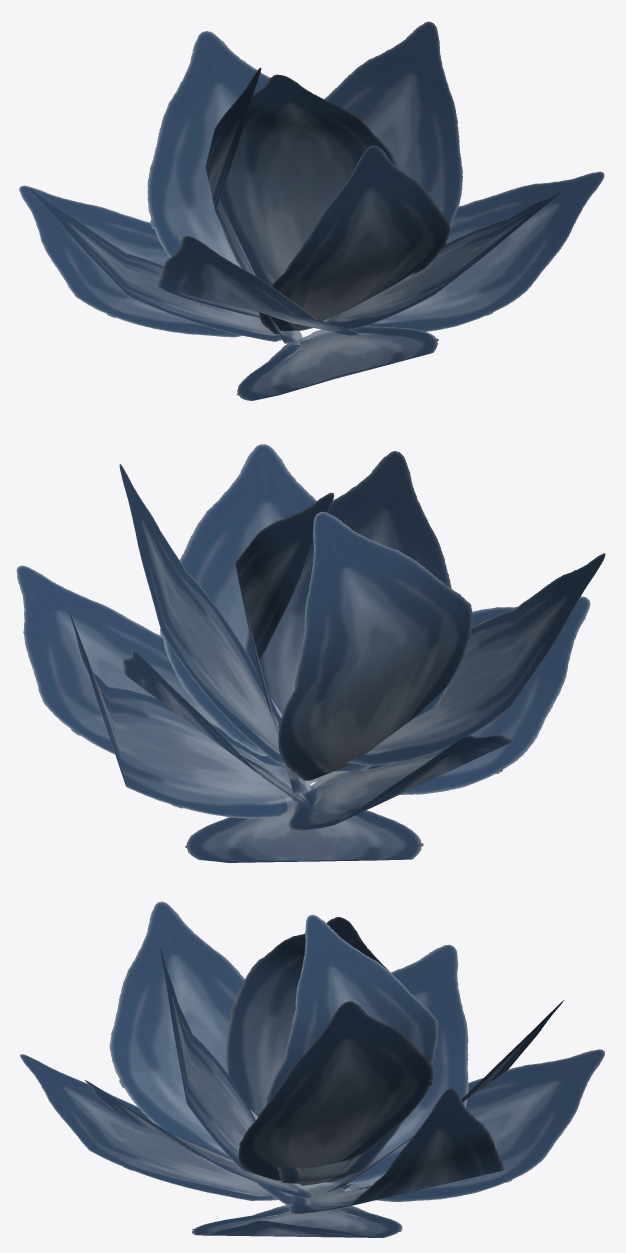
The model's file is d blue flower big.fbx.
3 views of the same model, one above another, from view 1: azimuth 30°, elevation 25°; view 2: azimuth 150°, elevation 25°; view 3: azimuth 270°, elevation 25° (orthographic). The views are drawn at different scales.
Parts seen in each view (by area): view 1: d_blue_petal2, d_blue_petal4, d_blue_petal3, d_blue_petal7, d_blue_petal10, d_blue_petal12, d_blue_petal11, d_blue_petal5, d_blue_petal8, d_blue_petal6, d_blue_petal1; view 2: d_blue_petal1, d_blue_petal9, d_blue_petal5, d_blue_petal10, d_blue_petal3, d_blue_petal6, d_blue_petal4, d_blue_petal12, d_blue_petal2, d_blue_petal11, d_blue_petal8, d_blue_petal7; view 3: d_blue_petal3, d_blue_petal5, d_blue_petal2, d_blue_petal12, d_blue_petal11, d_blue_petal1, d_blue_petal9, d_blue_petal8, d_blue_petal4, d_blue_petal10, d_blue_petal6, d_blue_petal7.
Part boxes in pixels (x1,y1,x2,y2): d_blue_petal2: (220, 74, 397, 285); d_blue_petal4: (259, 145, 450, 334); d_blue_petal3: (324, 21, 462, 287); d_blue_petal7: (147, 31, 269, 267); d_blue_petal10: (367, 171, 604, 331); d_blue_petal12: (19, 185, 241, 337); d_blue_petal11: (236, 325, 438, 400); d_blue_petal5: (157, 236, 359, 335); d_blue_petal8: (28, 187, 297, 341); d_blue_petal6: (323, 190, 562, 329); d_blue_petal1: (205, 67, 302, 344); d_blue_petal1: (278, 511, 472, 780); d_blue_petal9: (67, 606, 312, 818); d_blue_petal5: (347, 553, 605, 765); d_blue_petal10: (16, 565, 219, 754); d_blue_petal3: (119, 464, 286, 765); d_blue_petal6: (160, 444, 316, 756); d_blue_petal4: (244, 451, 451, 783); d_blue_petal12: (185, 797, 423, 862); d_blue_petal2: (235, 492, 334, 794); d_blue_petal11: (400, 596, 590, 794); d_blue_petal8: (288, 735, 513, 830); d_blue_petal7: (122, 650, 318, 814); d_blue_petal3: (238, 1001, 432, 1180); d_blue_petal5: (109, 901, 257, 1165); d_blue_petal2: (266, 914, 437, 1185); d_blue_petal12: (344, 1049, 604, 1202); d_blue_petal11: (20, 1054, 278, 1200); d_blue_petal1: (225, 917, 388, 1116); d_blue_petal9: (288, 1088, 504, 1214); d_blue_petal8: (332, 944, 468, 1184); d_blue_petal4: (159, 945, 292, 1205); d_blue_petal10: (192, 1205, 402, 1237); d_blue_petal6: (85, 1080, 314, 1198); d_blue_petal7: (326, 1000, 564, 1192).
Bounding box in the file's own units: 6.12 × 3.34 × 6.32.
